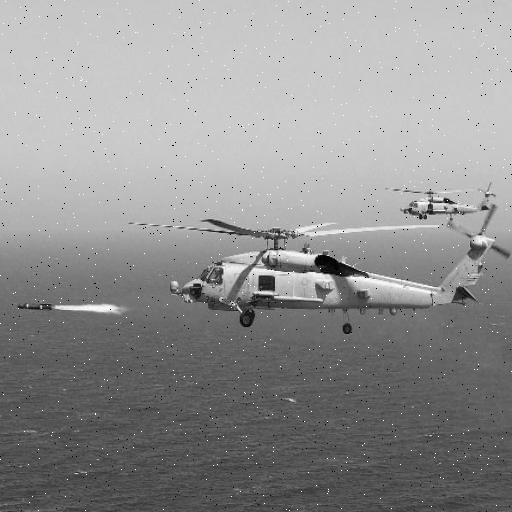helicopter: (103, 202, 461, 338), (382, 161, 502, 232)
